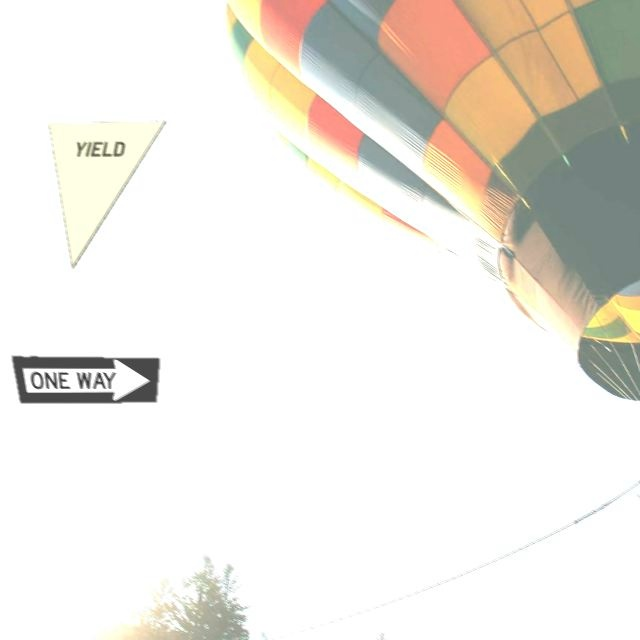ONE_WAY_ right: (10, 356, 159, 404)
YIELD: (47, 121, 165, 270)
